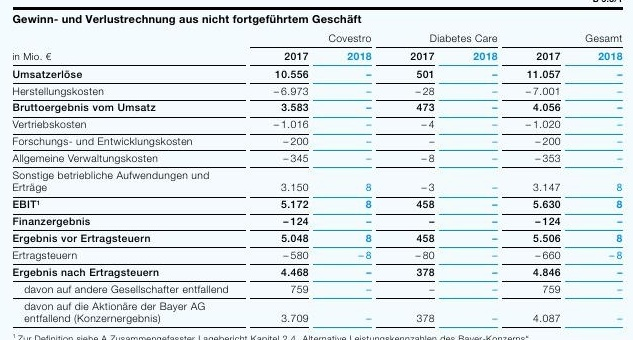table: (0, 0, 633, 340)
